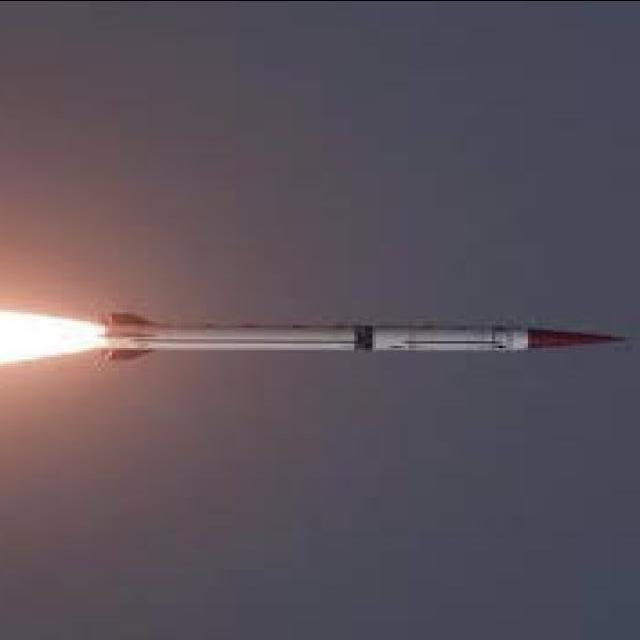missile: (103, 310, 620, 363)
